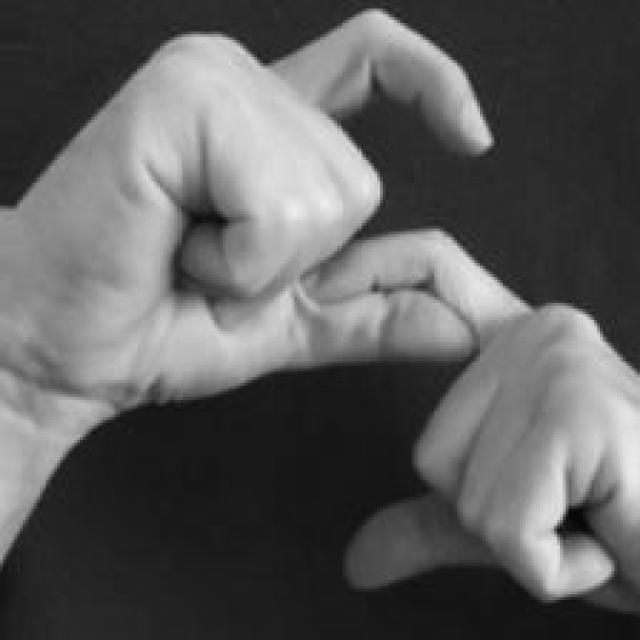S: (15, 4, 640, 635)
